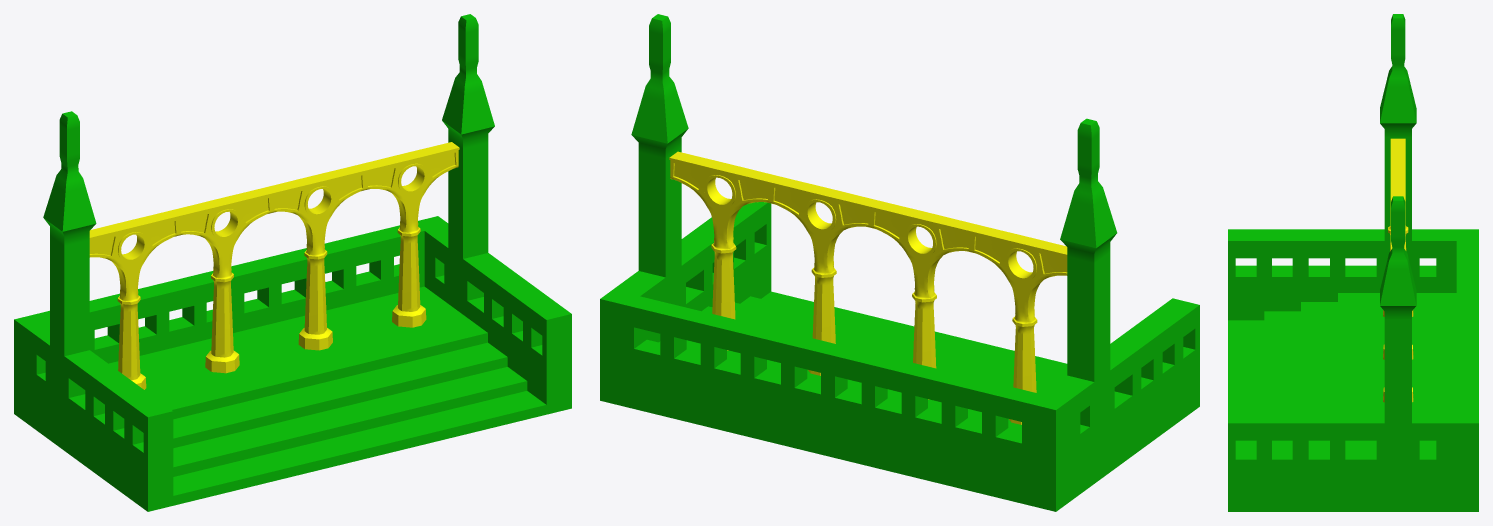
The model's file is arche trou_0009.c4d.fbx.
The picture shows the model from 3 angles, left to right: view 1: azimuth 30°, elevation 25°; view 2: azimuth 150°, elevation 25°; view 3: azimuth 270°, elevation 25°; orthographic projection. The views are drawn at different scales.
Visible parts, largest first — view 1: stairs_low, arch_low; view 2: stairs_low, arch_low; view 3: stairs_low, arch_low.
Part boxes in pixels (x1,y1,x2,y2): stairs_low: [14, 14, 571, 511]; arch_low: [89, 142, 459, 389]; stairs_low: [600, 14, 1199, 511]; arch_low: [669, 151, 1067, 424]; stairs_low: [1228, 14, 1478, 511]; arch_low: [1383, 138, 1413, 402].
Bounding box in the file's own units: 2560 × 1856 × 1372.
